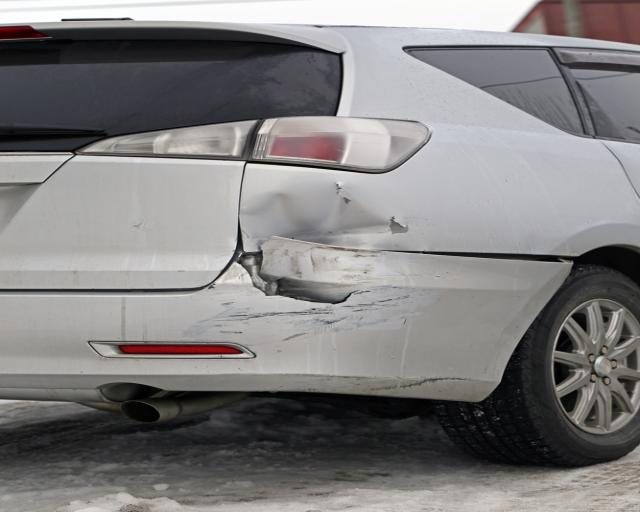crack: (234, 246, 364, 305)
dent: (237, 183, 392, 248)
scratch: (184, 242, 446, 346), (281, 373, 492, 393)
